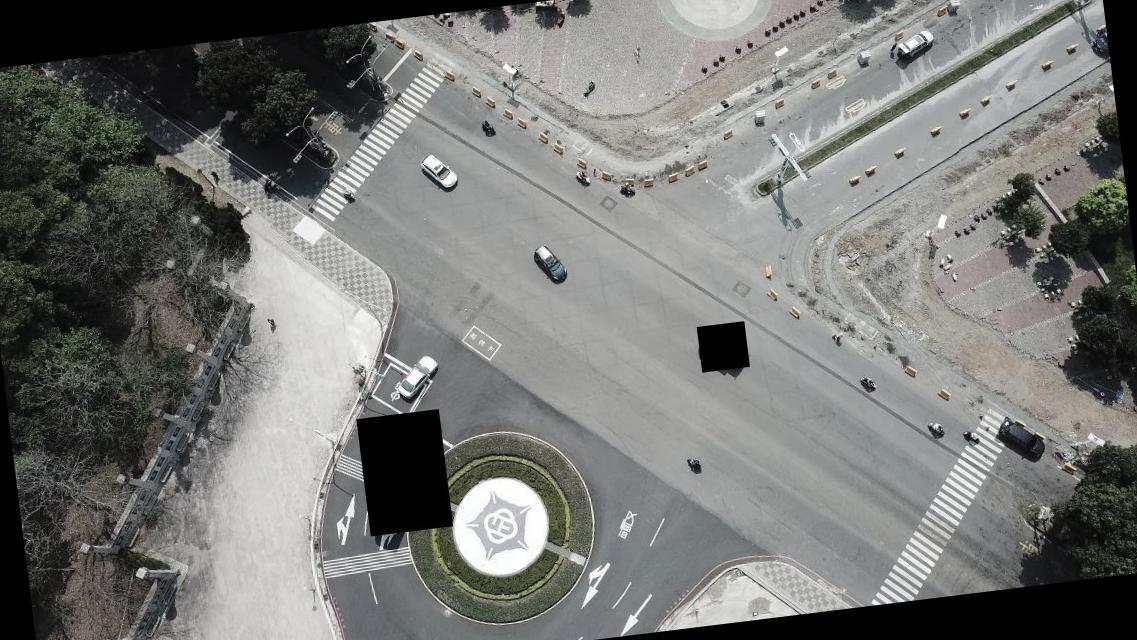vehicle: (997, 414, 1045, 461), (393, 354, 441, 399), (532, 241, 568, 285), (419, 150, 458, 190), (897, 28, 936, 58)
